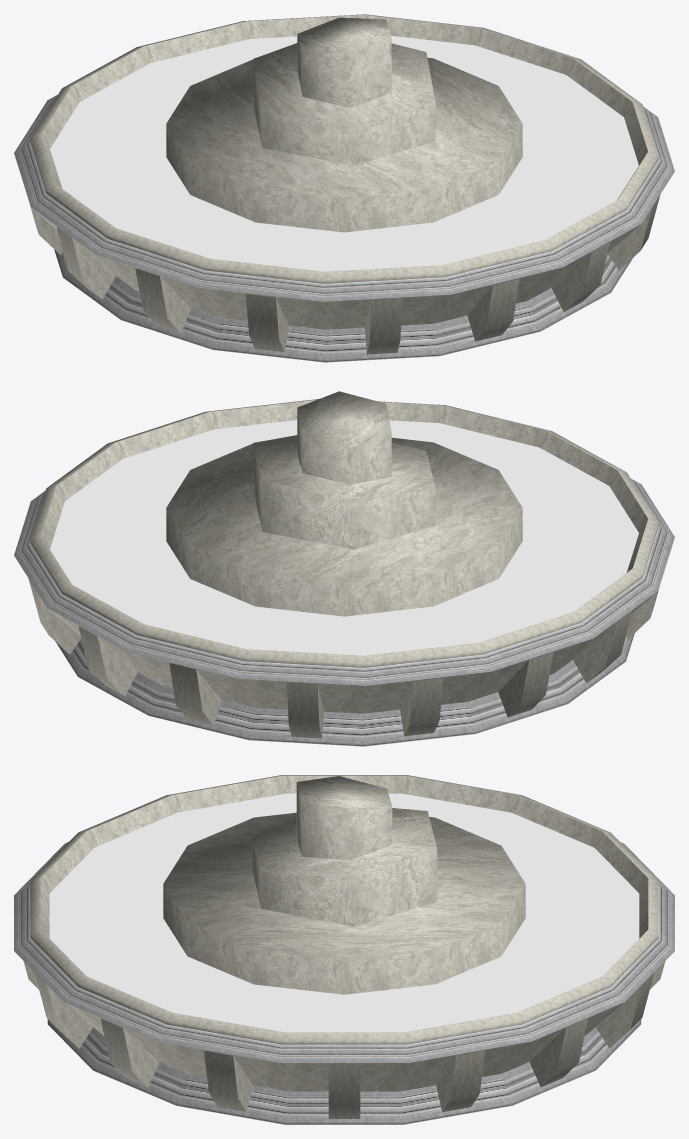
Rendered from thm_corl_fountain_circle_s01_l1.fbx.
The picture shows the model from 3 angles, top to bottom: view 1: azimuth 30°, elevation 25°; view 2: azimuth 150°, elevation 25°; view 3: azimuth 270°, elevation 25°; orthographic projection.
Visible parts, largest first — view 1: mesh_node; view 2: mesh_node; view 3: mesh_node.
Boxes of the visible parts, x1,y1,x2,y2 form: mesh_node: (14, 14, 674, 362); mesh_node: (14, 391, 674, 746); mesh_node: (14, 775, 674, 1124).
Size of the model in its own units: 7.85 by 2.85 by 7.85.
